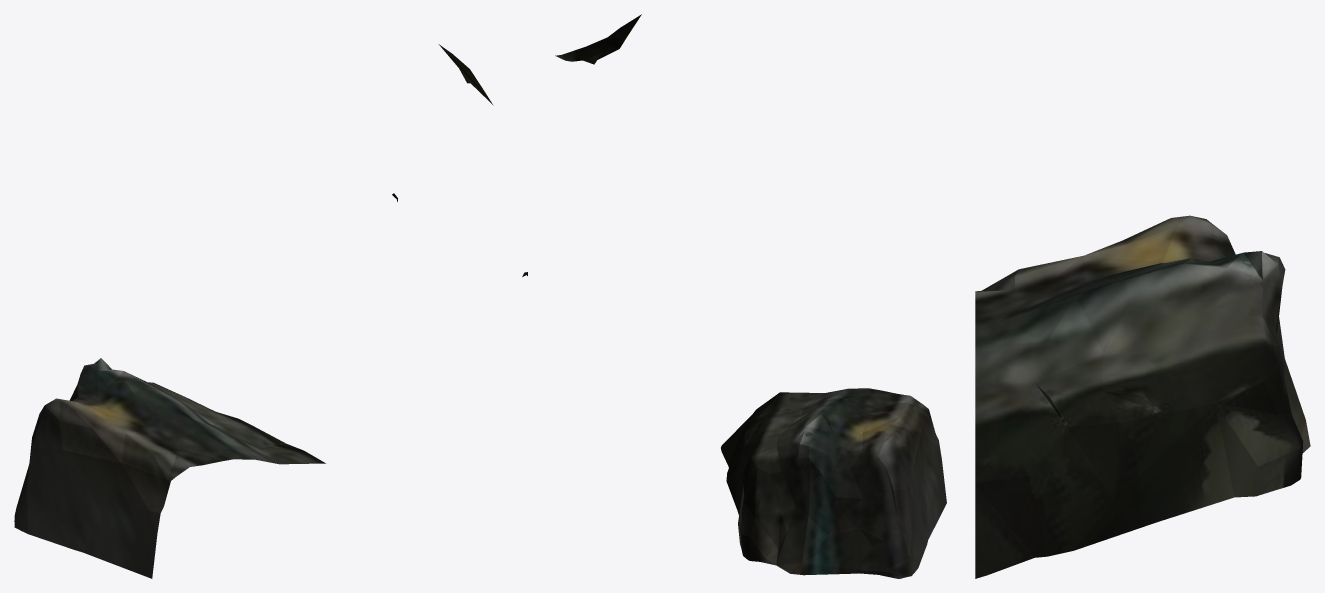
The picture shows the model from 3 angles, left to right: view 1: azimuth 30°, elevation 25°; view 2: azimuth 150°, elevation 25°; view 3: azimuth 270°, elevation 25°; orthographic projection. The views are drawn at different scales.
Bounding box in the file's own units: 0.7939 × 0.8373 × 0.4088.
Materials: 1 (1 with a texture image).
